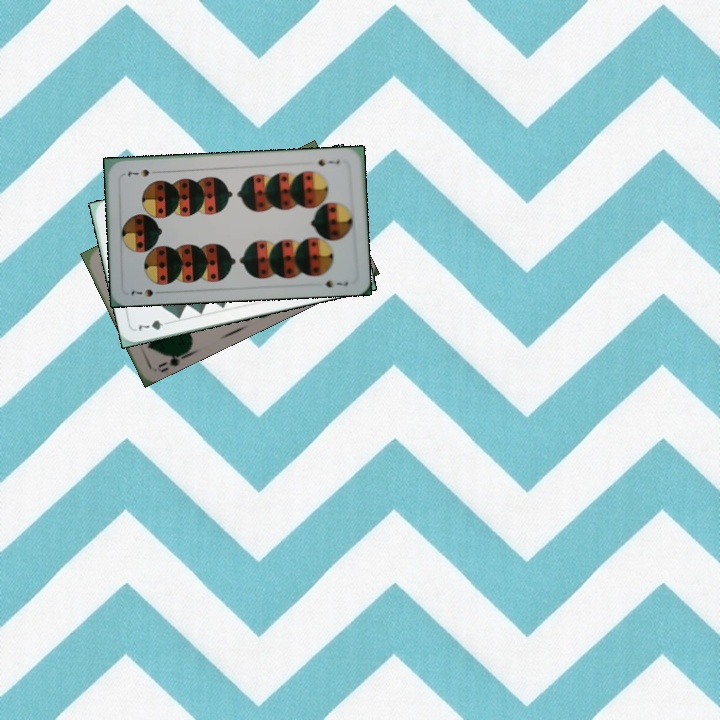G7: (134, 316, 174, 334)
GO: (154, 348, 191, 370)
S7: (127, 285, 166, 300), (314, 155, 342, 168)
